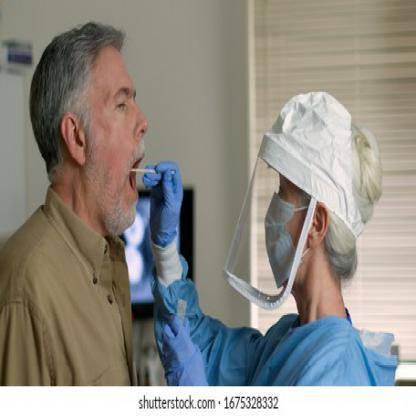Gloves: (144, 162, 184, 248), (164, 315, 209, 388)
